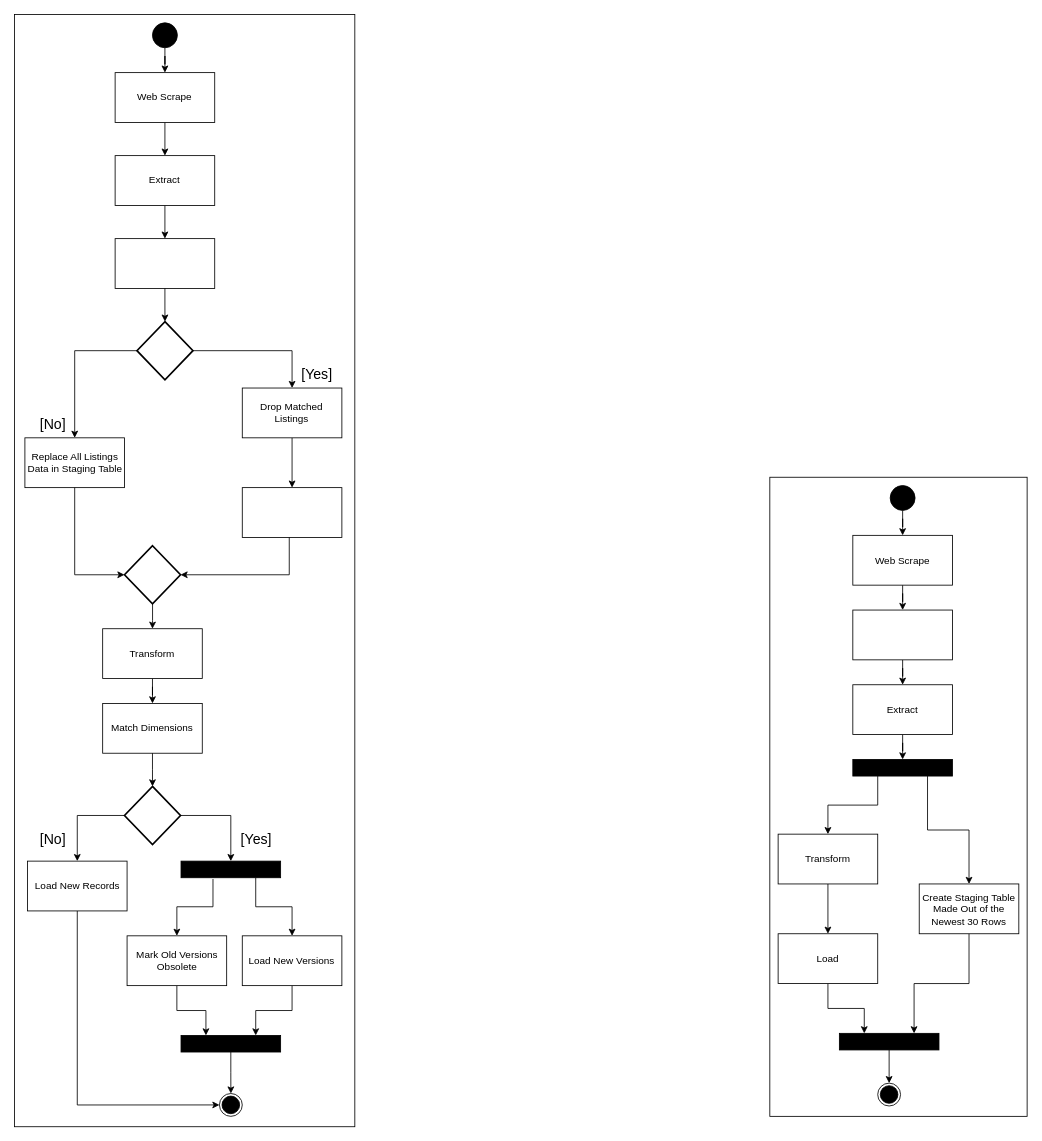
Some shapes in this 1042 by 1141 pixel diagram are drawn without their labels. Each missing label, with the centre of its shape:
Match Staging Table's Listings: [164,263]
Replace The Unmatched Listings Data in Staging Table: [291,512]
Save to CSV: [902,634]
